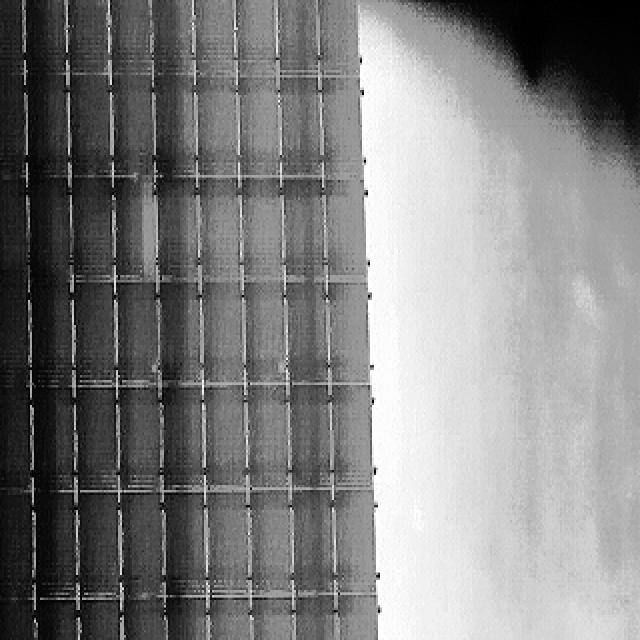PV-modules: (286, 384, 335, 490), (108, 173, 157, 279), (327, 278, 375, 382), (34, 494, 80, 602), (32, 384, 78, 492), (156, 175, 202, 282), (293, 492, 338, 601), (120, 494, 165, 601), (162, 385, 207, 492), (28, 174, 72, 283), (158, 279, 204, 383), (332, 487, 376, 595), (166, 494, 211, 599), (193, 76, 238, 181), (74, 494, 118, 601), (287, 278, 332, 382), (200, 282, 245, 386), (203, 491, 248, 595), (250, 492, 294, 598), (202, 385, 246, 491), (72, 386, 116, 491), (26, 74, 70, 177), (72, 283, 116, 386), (30, 283, 74, 386), (70, 176, 113, 281), (331, 387, 374, 491), (198, 177, 241, 281), (246, 282, 289, 386), (326, 177, 369, 281), (248, 386, 291, 490), (119, 386, 162, 489), (111, 74, 154, 176), (117, 283, 160, 385), (152, 74, 194, 178), (242, 177, 284, 281), (238, 76, 281, 177), (68, 75, 111, 176), (279, 76, 321, 179), (282, 178, 324, 281), (322, 77, 364, 179), (51, 0, 110, 72), (0, 382, 38, 492), (0, 492, 38, 600), (0, 278, 38, 382), (318, 0, 362, 75), (276, 0, 320, 73), (190, 0, 237, 67), (23, 0, 67, 71), (237, 0, 280, 70), (149, 0, 192, 70), (110, 0, 154, 68), (0, 170, 26, 282), (0, 68, 24, 172), (336, 592, 378, 640), (168, 595, 212, 640), (296, 597, 342, 640), (120, 597, 166, 640), (36, 597, 82, 640), (250, 597, 294, 640), (76, 597, 120, 640), (206, 597, 248, 640), (0, 0, 24, 68), (0, 597, 34, 640)
